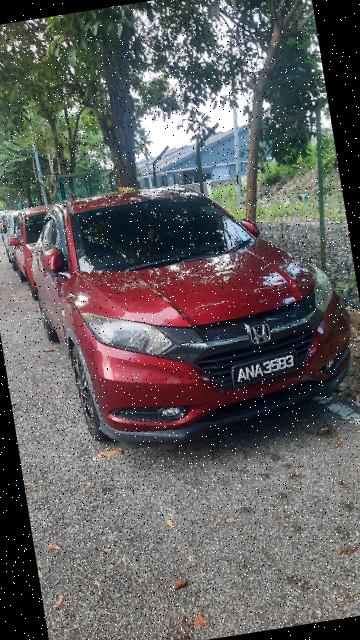License_Plate: (229, 348, 306, 391)
car: (16, 151, 360, 474)
